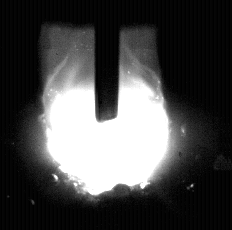arame: (95, 0, 119, 123)
poca: (46, 0, 170, 230)
